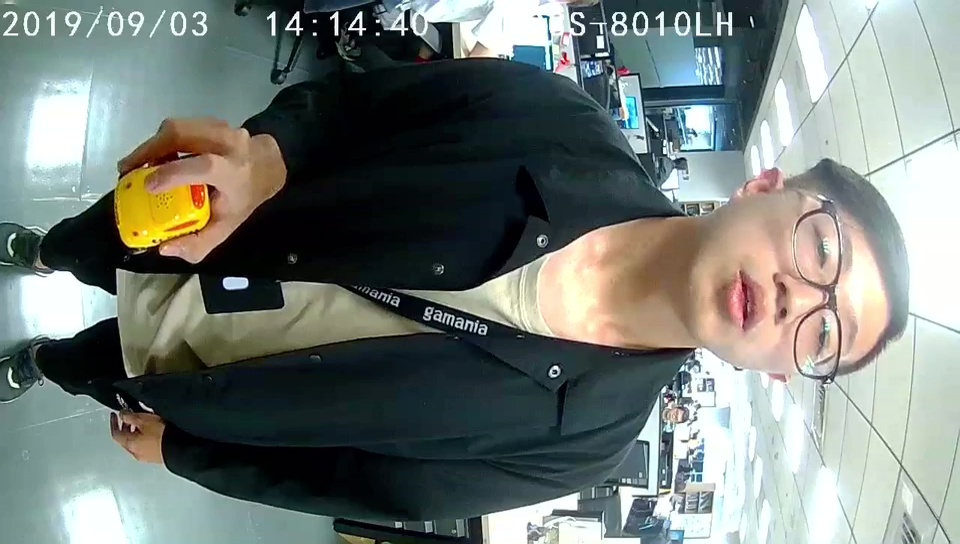car: (116, 164, 211, 250)
